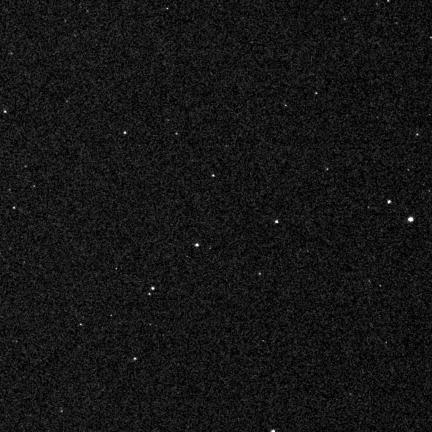blob: (408, 217, 414, 223), (195, 243, 199, 247), (387, 200, 391, 204), (124, 131, 127, 135), (152, 287, 155, 291), (4, 111, 7, 114), (212, 175, 215, 178), (275, 220, 278, 223)
